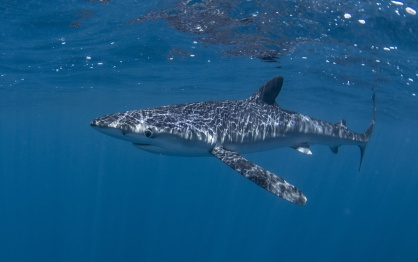Azul: (72, 67, 388, 223)
